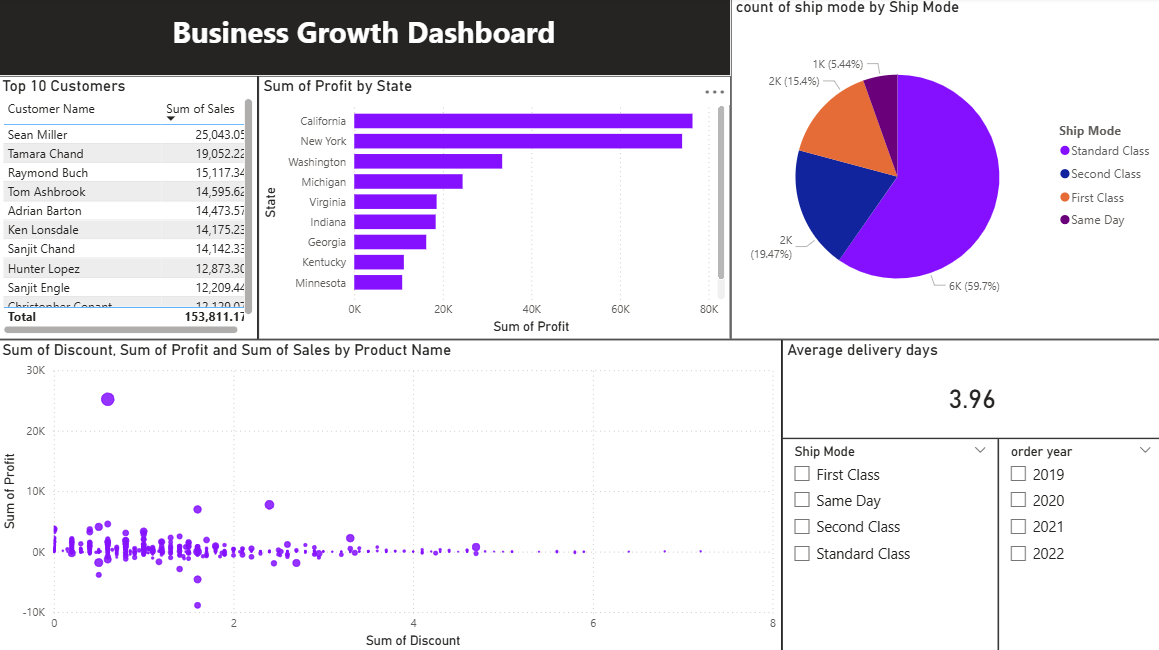

This screenshot's page, from the dashboard's own definition file:
{"tool":"powerbi","page":{"name":"Page 3","canvas":[1280,720],"ordinal":2},"visuals":[{"type":"scatterChart","fields":{"X":["Sum(Orders.Discount)"],"Y":["Sum(Orders.Profit)"],"Size":["Sum(Orders.Sales)"],"Category":["Orders.Product Name"]},"box":[0,376,861.8,344.4],"z":0},{"type":"pieChart","fields":{"Category":["Orders.Ship Mode"],"Y":["Orders.count of ship mode"]},"box":[805.5,0,474.8,376],"z":1000},{"type":"card","title":"Average delivery days","fields":{"Values":["Orders.average delivery time"]},"box":[861.8,376,418.5,108.4],"z":2000},{"type":"clusteredBarChart","fields":{"Category":["Orders.State"],"Y":["Sum(Orders.Profit)"]},"box":[286.8,86.4,518.7,289.5],"z":3000},{"type":"slicer","fields":{"Values":["Orders.Ship Mode"]},"box":[861.8,484.4,237.4,236],"z":4000},{"type":"tableEx","title":"Top 10 Customers","fields":{"Values":["Orders.Customer Name","Sum(Orders.Sales)"]},"box":[0,86.4,286.8,289.5],"z":5000},{"type":"slicer","fields":{"Values":["Orders.order year"]},"box":[1099.1,484.4,181.1,236],"z":6000},{"type":"textbox","box":[0,0,805.5,86.4],"z":6001}]}

Visuals, with their boxes in screenshot pixels (x1, y1, x2, y2), scaled from the page's 1280x720 canvas onto the 1159x650 screenshot:
scatterChart - Sum(Orders.Discount) x Sum(Orders.Profit): bbox=[0, 339, 780, 649]
pieChart - Orders.Ship Mode x Orders.count of ship mode: bbox=[729, 0, 1158, 339]
"Average delivery days" card: bbox=[780, 339, 1158, 437]
clusteredBarChart - Orders.State x Sum(Orders.Profit): bbox=[260, 78, 729, 339]
slicer - Orders.Ship Mode: bbox=[780, 437, 995, 649]
"Top 10 Customers" tableEx: bbox=[0, 78, 260, 339]
slicer - Orders.order year: bbox=[995, 437, 1158, 649]
textbox: bbox=[0, 0, 729, 78]
